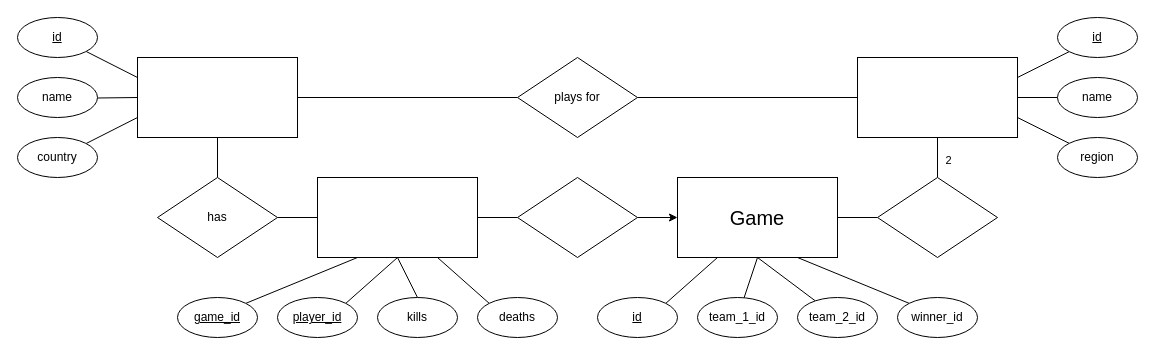
Image size: 1155x355. Some labels were removed from this diagram. The box of each missing label's shape, as (x1, y1, x2, y2) in pixels:
belongs to: (516, 176, 638, 258)
competes in: (876, 176, 998, 258)
Player: (136, 56, 298, 138)
Stats: (316, 176, 478, 258)
Team: (856, 56, 1018, 138)
